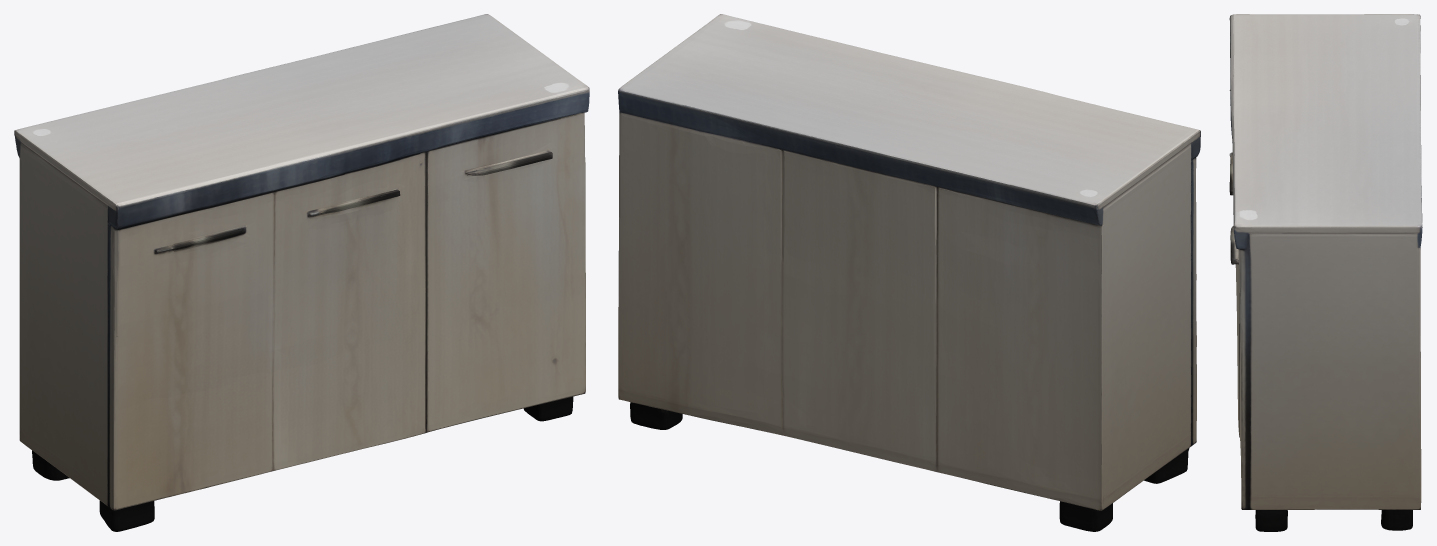
File: 23025_vegas_3door_kitchen_base_baf.glb
3 renders of one model, left to right at view 1: azimuth 30°, elevation 25°; view 2: azimuth 150°, elevation 25°; view 3: azimuth 270°, elevation 25°, orthographic. The views are drawn at different scales.
Visible parts, largest first — view 1: world; view 2: world; view 3: world.
Boxes of the visible parts, x1=… form: world: x1=14, y1=14, x2=589, y2=531; world: x1=618, y1=14, x2=1200, y2=531; world: x1=1229, y1=14, x2=1422, y2=531.
Bounding box in the file's own units: 1 × 0.6757 × 0.3832.
Materials: 1 (1 with a texture image).
